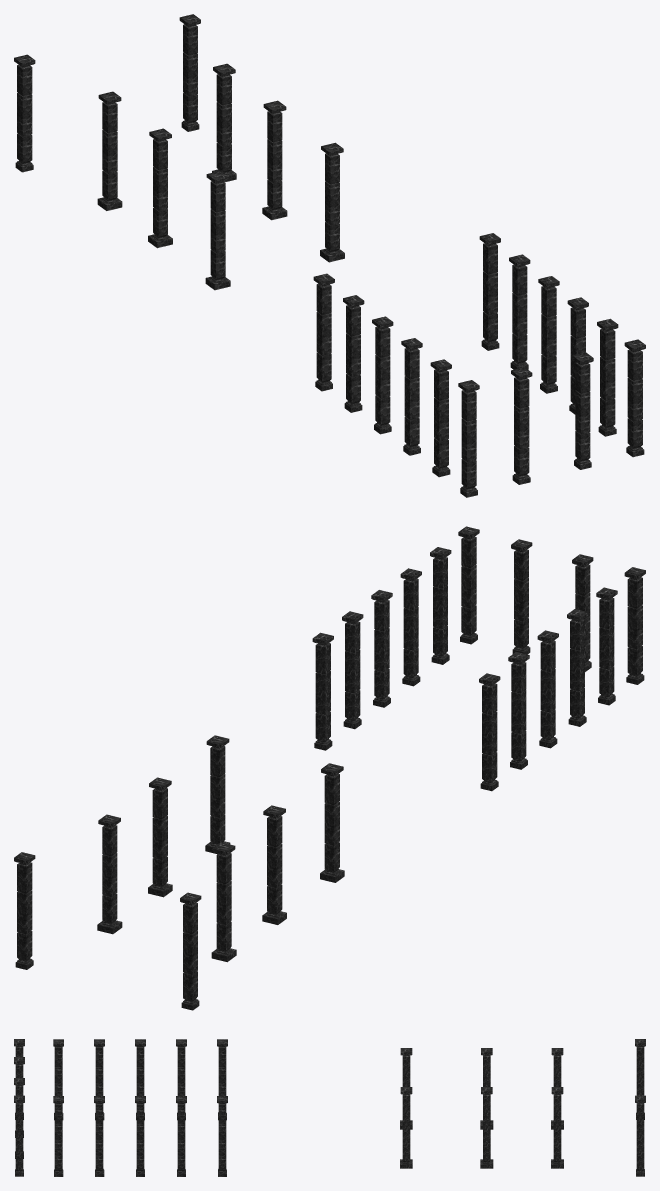
Rendered from Pillars.fbx.
3 renders of one model, top to bottom at view 1: azimuth 30°, elevation 25°; view 2: azimuth 150°, elevation 25°; view 3: azimuth 270°, elevation 25°, orthographic. The views are drawn at different scales.
Parts seen in each view (by area): view 1: Pillar1_5, Pillar1, Pillar1_4, Pillar1_3, Pillar1_6, Pillar2_0, Pillar2_5, Pillar2, Pillar2_3_3, Pillar2_1_2, Pillar2_2, Pillar2_4_2 (+10 smaller); view 2: Pillar1, Pillar1_2, Pillar1_3, Pillar1_4, Pillar1_5, Pillar2_3, Pillar2_4, Pillar2_2_2, Pillar2_1, Pillar2_0_2, Pillar2_4_2, Pillar2_2_3 (+10 smaller); view 3: Pillar1_2, Pillar1_6, Pillar2_2_3, Pillar2_5, Pillar2_0, Pillar2_1, Pillar1_4, Pillar2_2, Pillar2_3, Pillar2_4, Pillar2_1_2, Pillar2_0_2 (+8 smaller).
Boxes of the visible parts, <box> form: Pillar1_5: <box>205,170,230,290</box>; Pillar1: <box>97,91,122,210</box>; Pillar1_4: <box>262,100,287,220</box>; Pillar1_3: <box>148,128,172,248</box>; Pillar1_6: <box>320,142,344,262</box>; Pillar2_0: <box>597,318,618,436</box>; Pillar2_5: <box>624,339,645,457</box>; Pillar2: <box>14,54,35,172</box>; Pillar2_3_3: <box>511,367,532,484</box>; Pillar2_1_2: <box>401,338,422,455</box>; Pillar2_2: <box>538,276,559,393</box>; Pillar2_4_2: <box>313,273,334,391</box>; Pillar1: <box>211,842,236,962</box>; Pillar1_2: <box>97,814,122,934</box>; Pillar1_3: <box>262,805,286,924</box>; Pillar1_4: <box>148,777,172,897</box>; Pillar1_5: <box>320,763,344,882</box>; Pillar2_3: <box>342,611,363,729</box>; Pillar2_4: <box>312,632,333,750</box>; Pillar2_2_2: <box>537,630,558,748</box>; Pillar2_1: <box>400,568,421,686</box>; Pillar2_0_2: <box>596,587,617,705</box>; Pillar2_4_2: <box>479,673,500,791</box>; Pillar2_2_3: <box>14,852,35,969</box>; Pillar1_2: <box>551,1087,563,1168</box>; Pillar1_6: <box>400,1087,412,1168</box>; Pillar2_2_3: <box>635,1095,645,1176</box>; Pillar2_5: <box>14,1095,24,1176</box>; Pillar2_0: <box>53,1096,63,1176</box>; Pillar2_1: <box>94,1096,104,1176</box>; Pillar1_4: <box>480,1087,493,1168</box>; Pillar2_2: <box>135,1096,145,1176</box>; Pillar2_3: <box>176,1096,186,1176</box>; Pillar2_4: <box>217,1096,227,1176</box>; Pillar2_1_2: <box>94,1039,104,1120</box>; Pillar2_0_2: <box>53,1039,63,1120</box>.
Size of the model in its own units: 2059 by 1199 by 8955.
22 materials, 22 textured.
